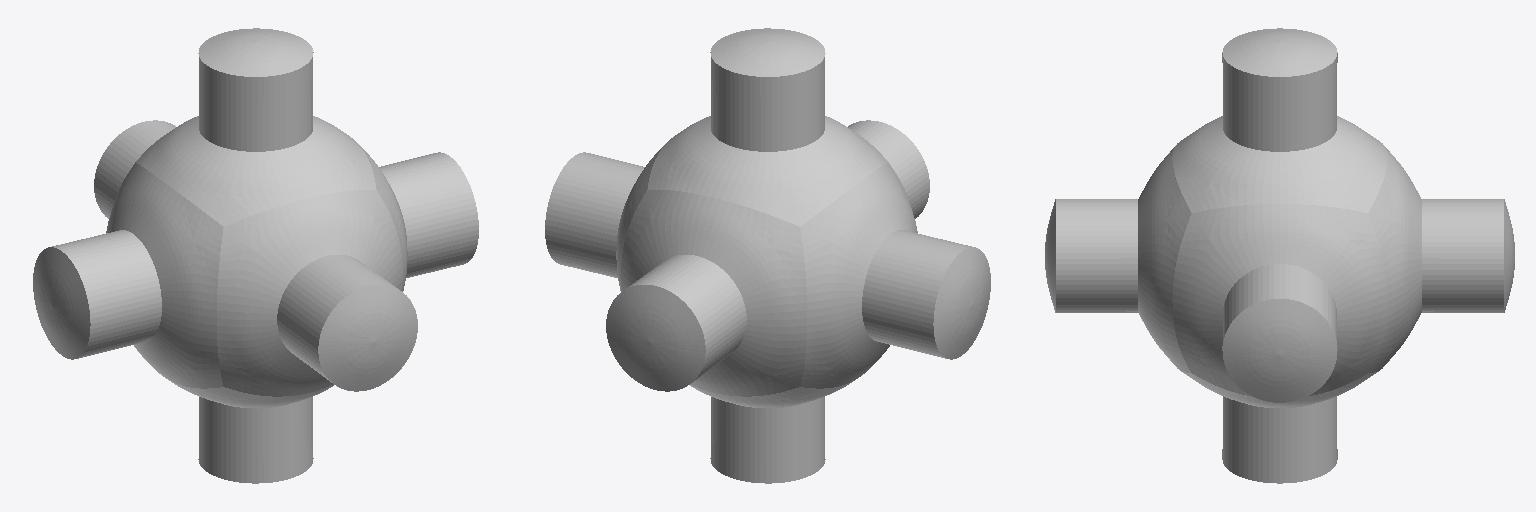
File: another.obj
3 views of the same model, side by side, from view 1: azimuth 30°, elevation 25°; view 2: azimuth 150°, elevation 25°; view 3: azimuth 270°, elevation 25° (orthographic).
Parts seen in each view (by area): view 1: Sphere; view 2: Sphere; view 3: Sphere.
Boxes of the visible parts, <box> form: Sphere: <box>33,28,478,483</box>; Sphere: <box>545,28,990,483</box>; Sphere: <box>1045,28,1514,483</box>.
Size of the model in its own units: 3.06 by 3.06 by 3.06.